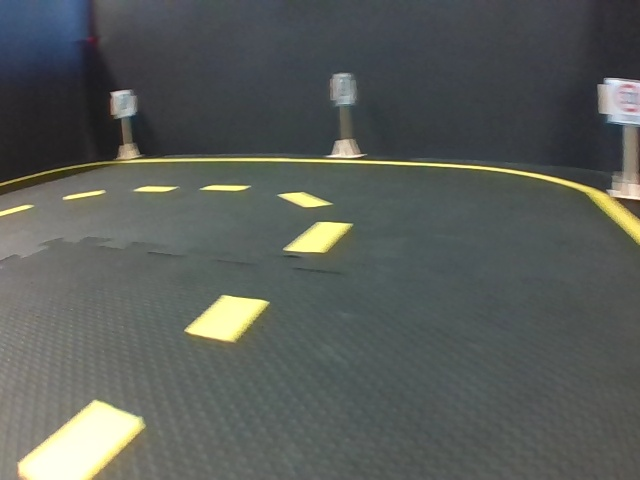30: (606, 76, 639, 125)
no30: (331, 73, 354, 103), (111, 93, 134, 116)
